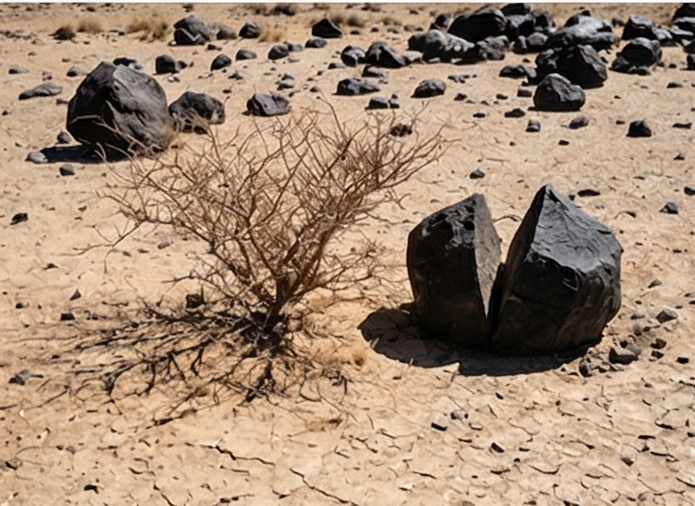rocks: (491, 186, 622, 351), (404, 192, 502, 342), (63, 60, 171, 157), (167, 89, 224, 128), (532, 71, 586, 111), (444, 4, 504, 40), (548, 15, 613, 46), (407, 28, 466, 60), (612, 35, 663, 72), (364, 39, 410, 68), (244, 91, 290, 116), (471, 35, 509, 62), (335, 75, 382, 96), (620, 14, 658, 39), (499, 12, 535, 38), (16, 80, 63, 97), (309, 15, 343, 38), (411, 77, 446, 97), (517, 31, 550, 52), (171, 26, 203, 46), (607, 343, 639, 363), (154, 52, 184, 73), (7, 368, 44, 385), (338, 44, 365, 65), (625, 118, 652, 137), (498, 63, 534, 77), (666, 24, 693, 42), (531, 10, 554, 30), (498, 2, 530, 16), (364, 93, 393, 108), (267, 42, 290, 60), (237, 19, 260, 37), (210, 52, 232, 70), (49, 25, 76, 39), (388, 121, 413, 136), (431, 11, 453, 28), (654, 307, 677, 323), (111, 55, 139, 68), (361, 64, 388, 77), (215, 23, 236, 39), (64, 64, 88, 77), (567, 114, 589, 128), (235, 46, 258, 59), (25, 150, 46, 163), (658, 201, 679, 214), (276, 71, 294, 86), (304, 36, 328, 47), (9, 212, 28, 225), (7, 63, 29, 74), (574, 187, 600, 196), (578, 359, 592, 375), (58, 162, 75, 175), (503, 106, 524, 116), (525, 118, 541, 131), (649, 337, 666, 349), (226, 68, 244, 79), (56, 129, 71, 142), (403, 23, 422, 32), (516, 87, 533, 97), (467, 168, 484, 178), (326, 61, 345, 69), (647, 278, 662, 288), (204, 42, 220, 51), (453, 91, 467, 99), (494, 92, 507, 99), (472, 110, 485, 117), (309, 85, 320, 91)
